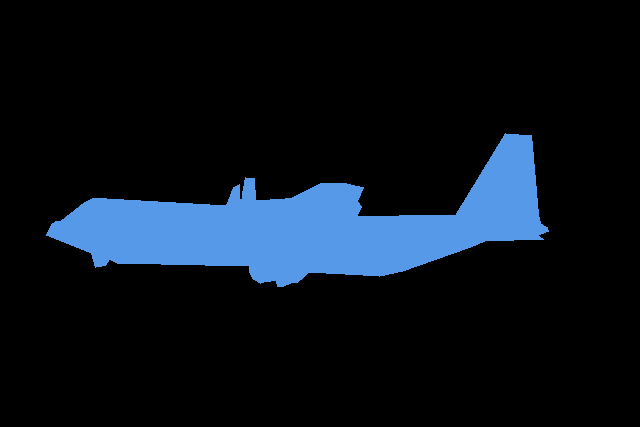Airplane: (46, 133, 549, 286)
